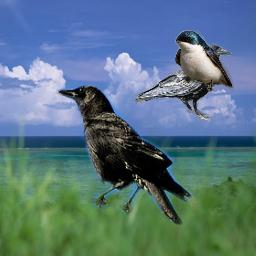Crow: (51, 83, 193, 227), (133, 43, 232, 121)
Swallow: (175, 30, 234, 92)
